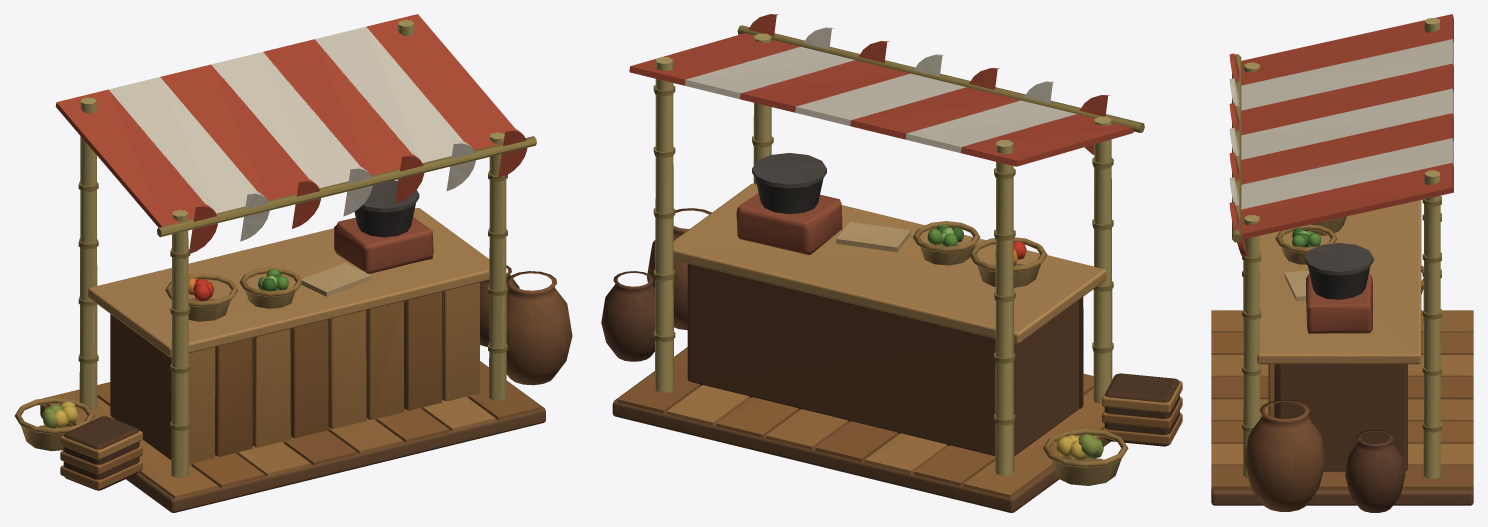
File: kitchen.glb
The picture shows the model from 3 angles, left to right: view 1: azimuth 30°, elevation 25°; view 2: azimuth 150°, elevation 25°; view 3: azimuth 270°, elevation 25°; orthographic projection. The views are drawn at different scales.
Visible parts, largest first — view 1: kitchen-kit; view 2: kitchen-kit; view 3: kitchen-kit.
Part boxes in pixels (box(x1,y1,x2,y2)): kitchen-kit: box(14, 14, 572, 512); kitchen-kit: box(601, 14, 1182, 512); kitchen-kit: box(1211, 14, 1473, 512).
Size of the model in its own units: 3.42 by 2.15 by 1.6.
